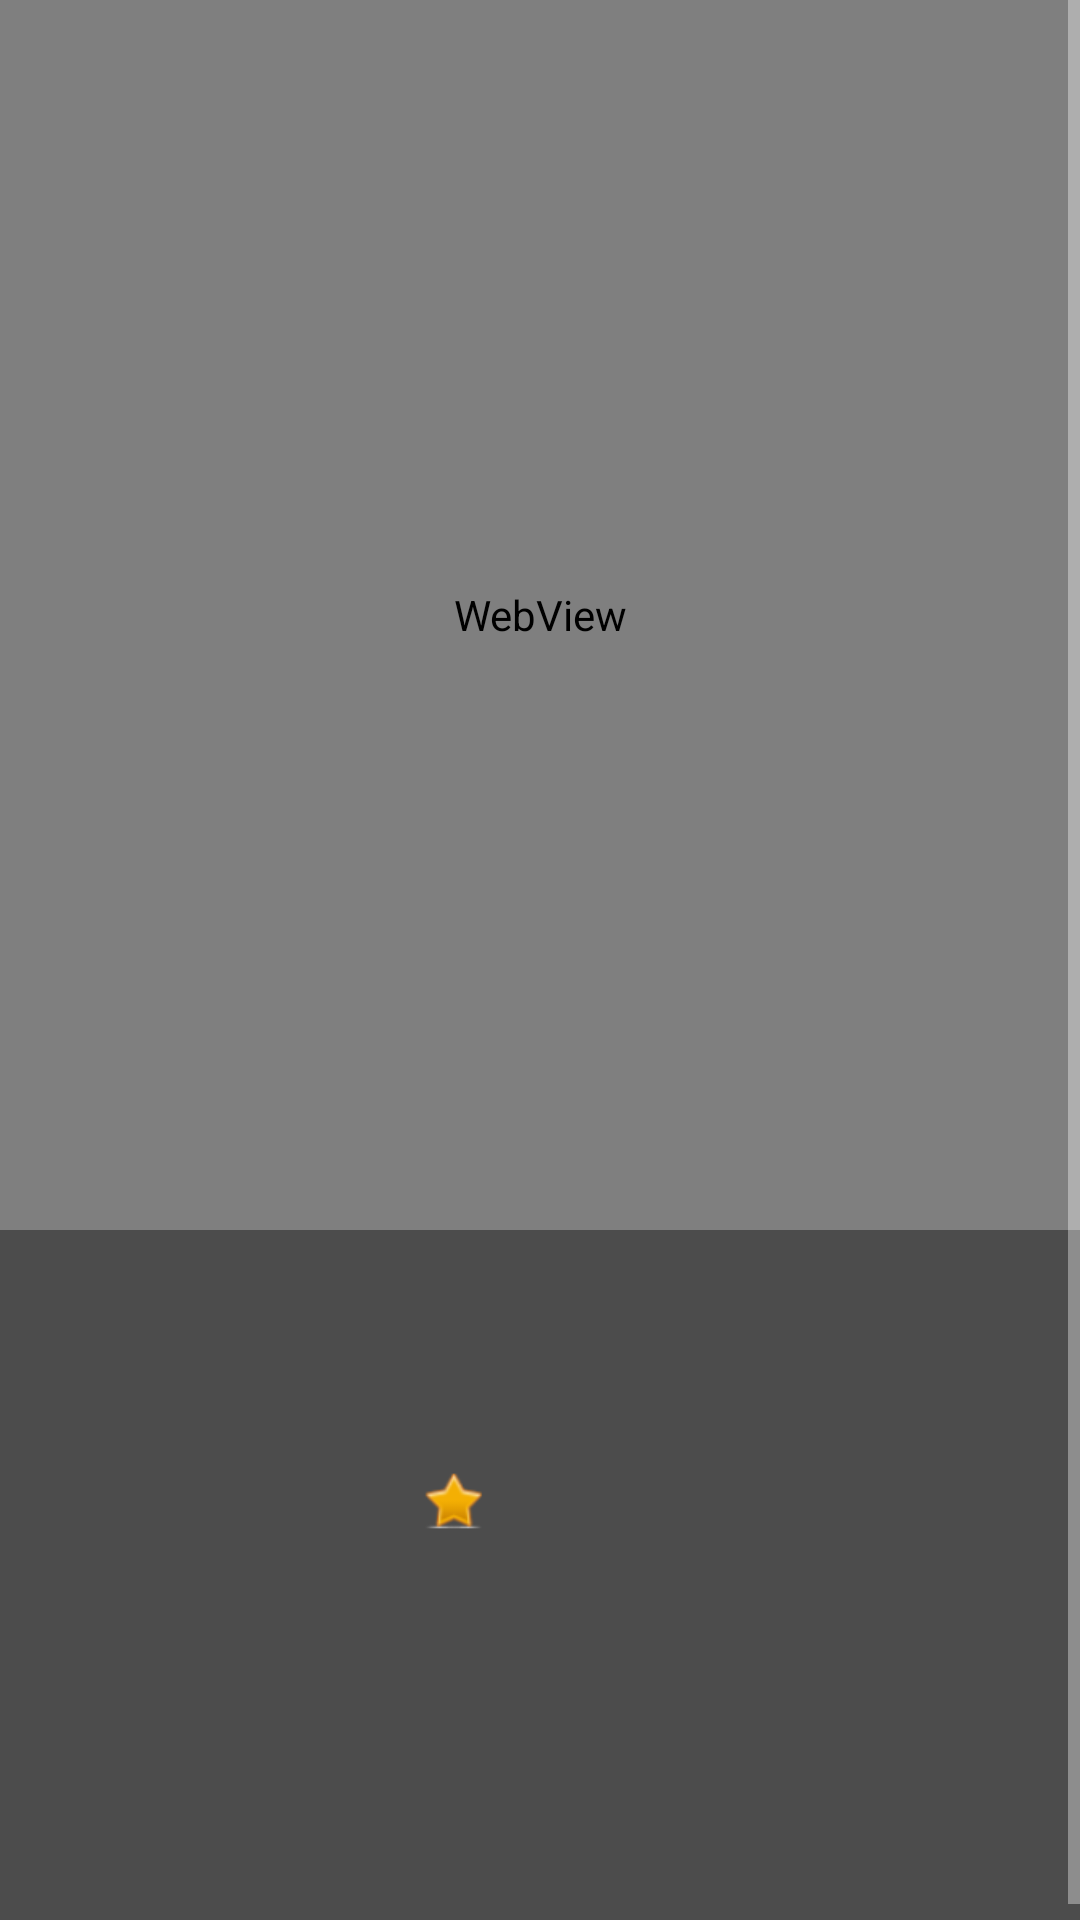

Icon click points for this 1080*1920 phone screenshot, format point (x, y):
star: point (453, 1501)
